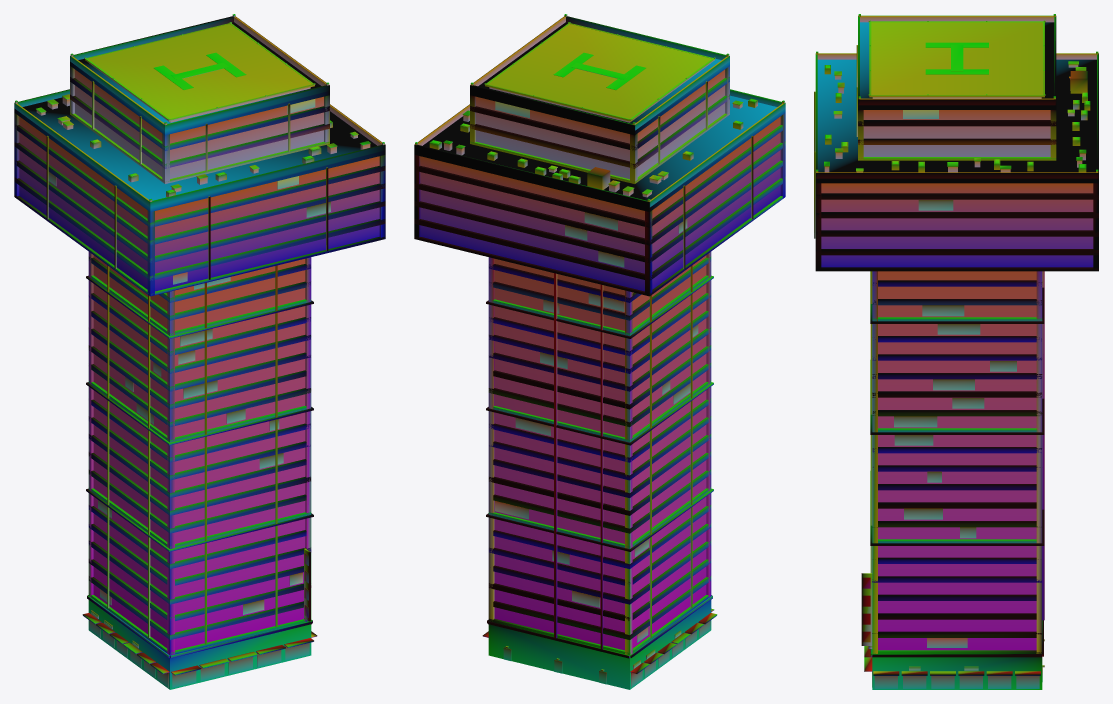
File: Tower_Crown.fbx
3 renders of one model, left to right at view 1: azimuth 30°, elevation 25°; view 2: azimuth 150°, elevation 25°; view 3: azimuth 270°, elevation 25°, orthographic. The views are drawn at different scales.
Parts seen in each view (by area): view 1: Tower_Crown_LOD0; view 2: Tower_Crown_LOD0; view 3: Tower_Crown_LOD0.
Part boxes in pixels (bbox=[...]): Tower_Crown_LOD0: bbox=[14, 14, 385, 689]; Tower_Crown_LOD0: bbox=[414, 14, 785, 689]; Tower_Crown_LOD0: bbox=[814, 14, 1098, 689].
Size of what is drawn, in the model's own units: 50.27 by 116 by 50.27.
